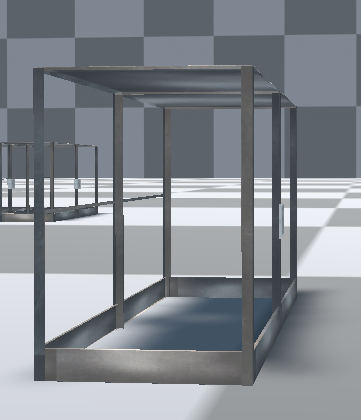Rack: (32, 62, 299, 387)
